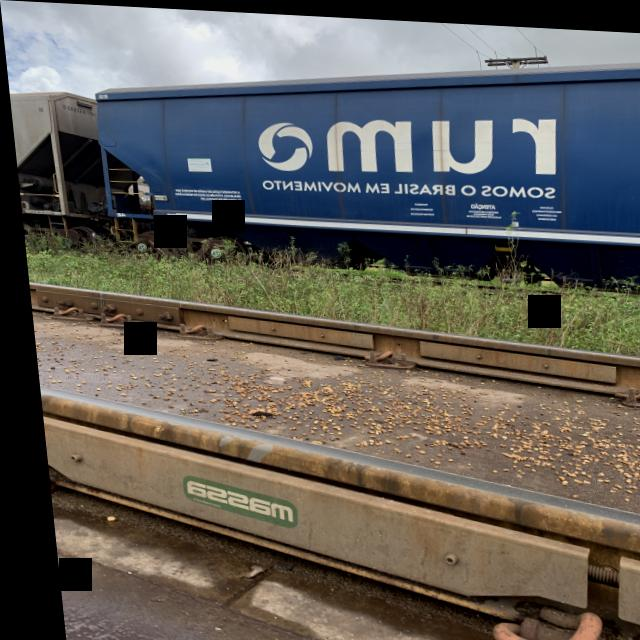hopper: (75, 11, 640, 269), (7, 78, 101, 254)
